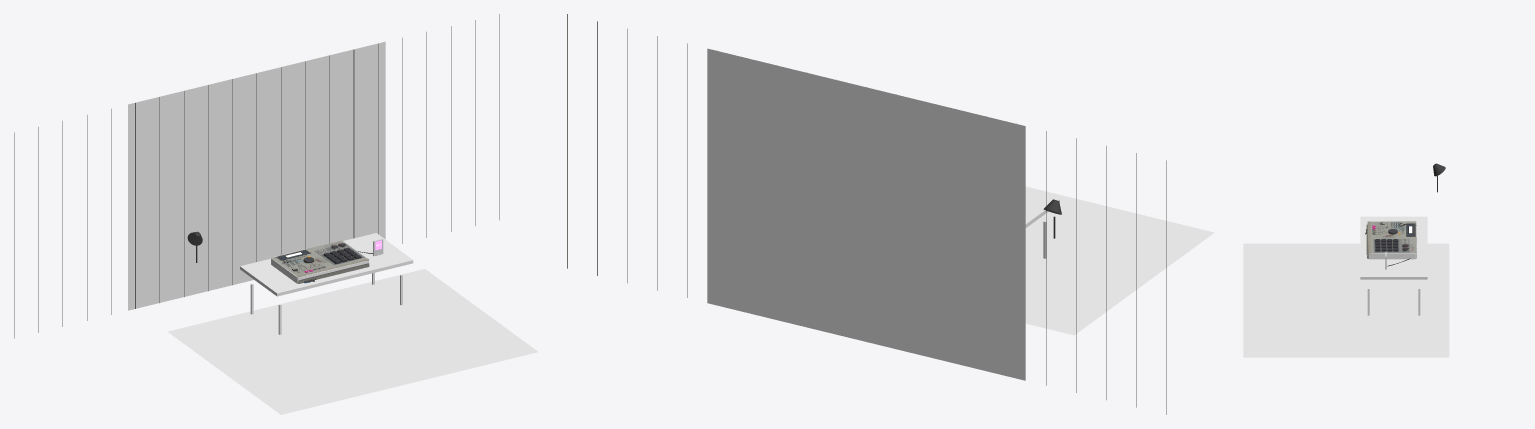
File: mpc.glb
3 views of the same model, side by side, from view 1: azimuth 30°, elevation 25°; view 2: azimuth 150°, elevation 25°; view 3: azimuth 270°, elevation 25° (orthographic). The views are drawn at different scales.
Visible parts, largest first — view 1: Backdrop, Floor, Desk, MPC_PanelPhoto; view 2: Backdrop, Floor, Desk; view 3: Floor, Desk, MPC_PanelPhoto, MPC_Body.
Part boxes in pixels (left/top/right/bottom): Backdrop: left=128, top=41, right=385, bottom=310; Floor: left=167, top=269, right=538, bottom=414; Desk: left=240, top=233, right=413, bottom=296; MPC_PanelPhoto: left=271, top=240, right=368, bottom=277; Backdrop: left=707, top=48, right=1025, bottom=380; Floor: left=1025, top=186, right=1214, bottom=335; Desk: left=1025, top=191, right=1059, bottom=227; Floor: left=1243, top=243, right=1449, bottom=357; Desk: left=1360, top=216, right=1427, bottom=279; MPC_PanelPhoto: left=1367, top=221, right=1416, bottom=253; MPC_Body: left=1367, top=253, right=1416, bottom=259.
Bounding box in the file's own units: 6.4 × 2.6 × 3.5.
28 materials, 1 textured.
